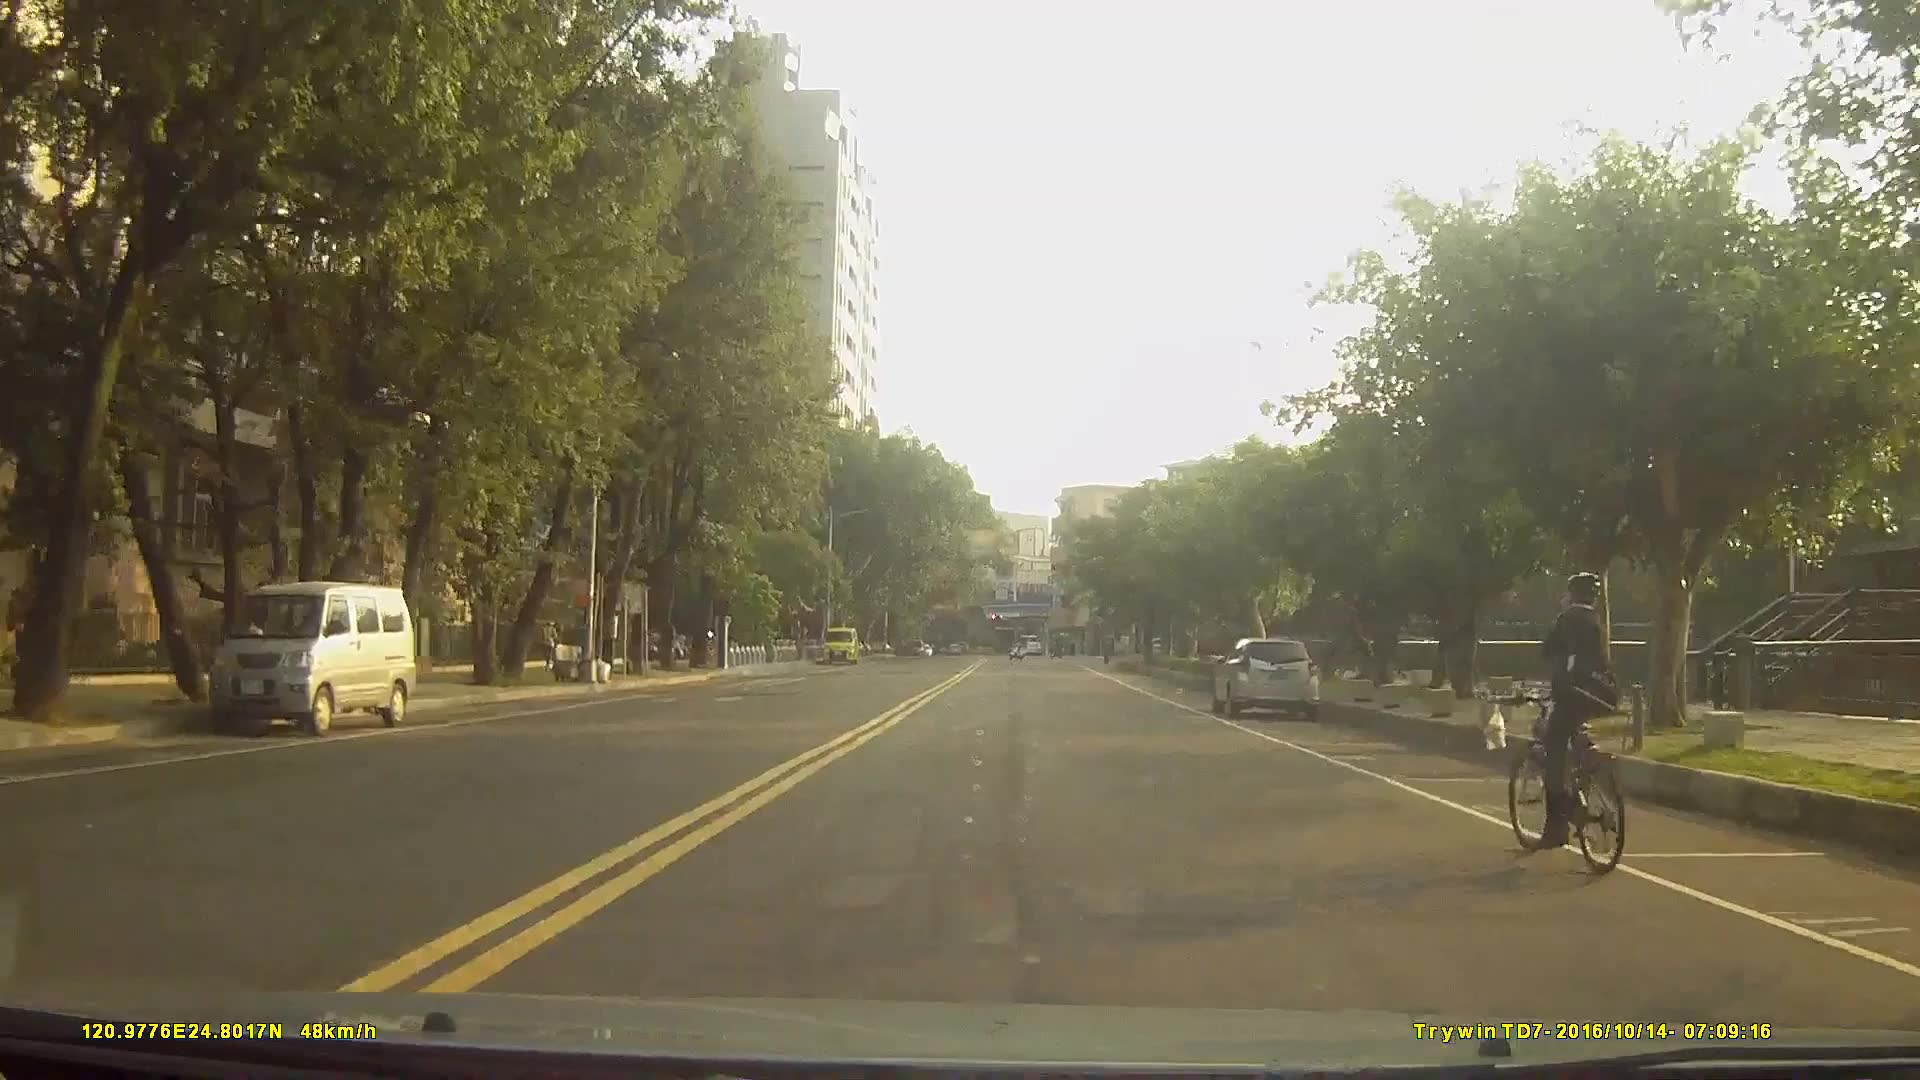rider: (1505, 565, 1633, 879)
vehicle: (199, 577, 417, 737), (1212, 631, 1324, 716), (1016, 632, 1043, 657)
